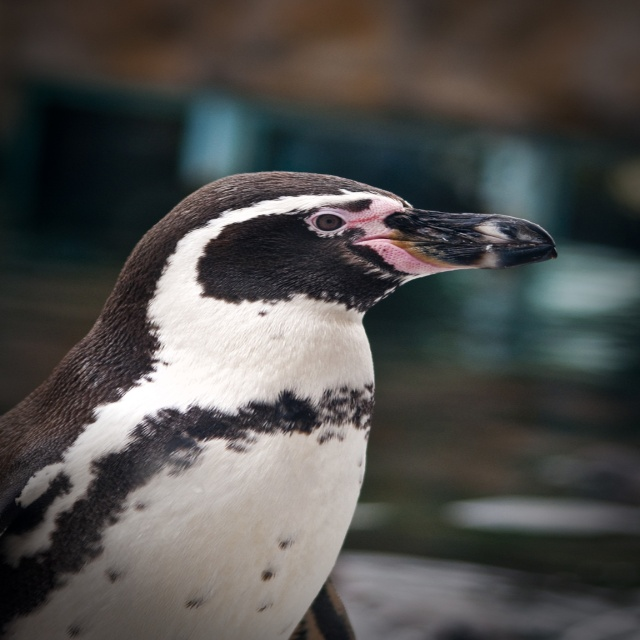Penguin: (0, 164, 551, 640)
